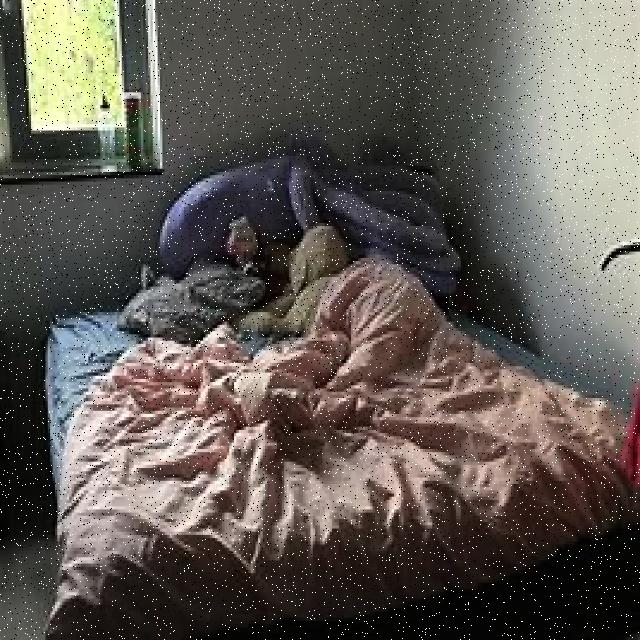bed: (44, 136, 640, 640)
